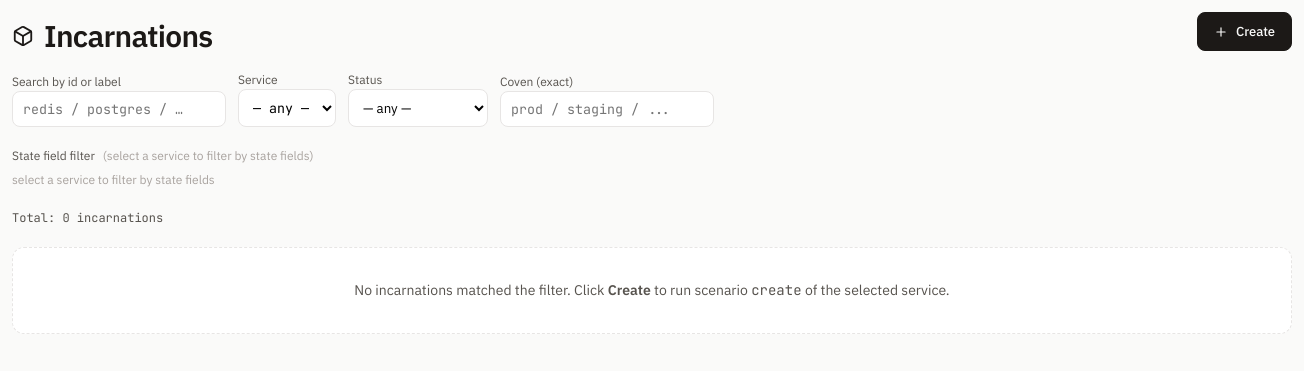
Test: IncarnationsList › inline-error on an invalid coven label (does not send a request)
// Roll back to initial call with empty coven.
Type "Prod-Bad!" into the field with placeholder "prod / staging / ..." at (607, 109), box [500, 91, 714, 127]
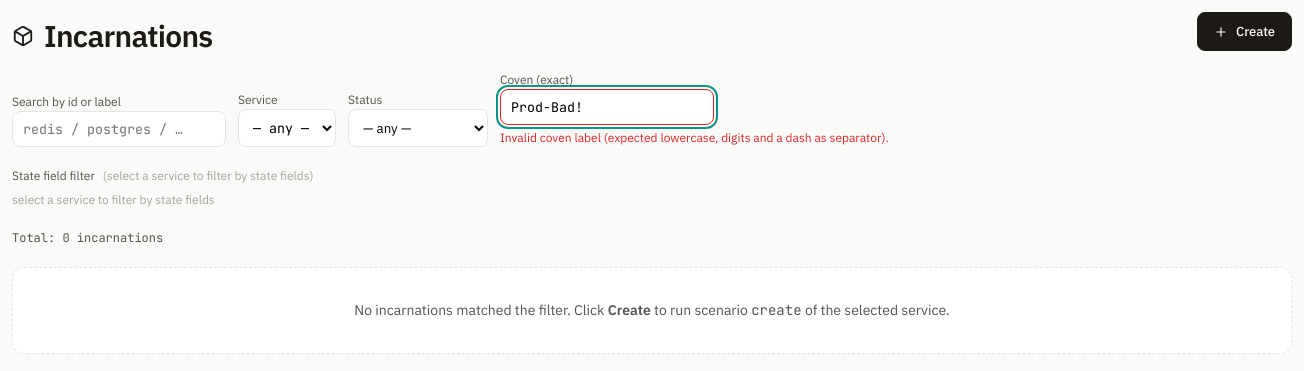
Check: the text "Invalid coven label" is shown, box [500, 130, 889, 145]
